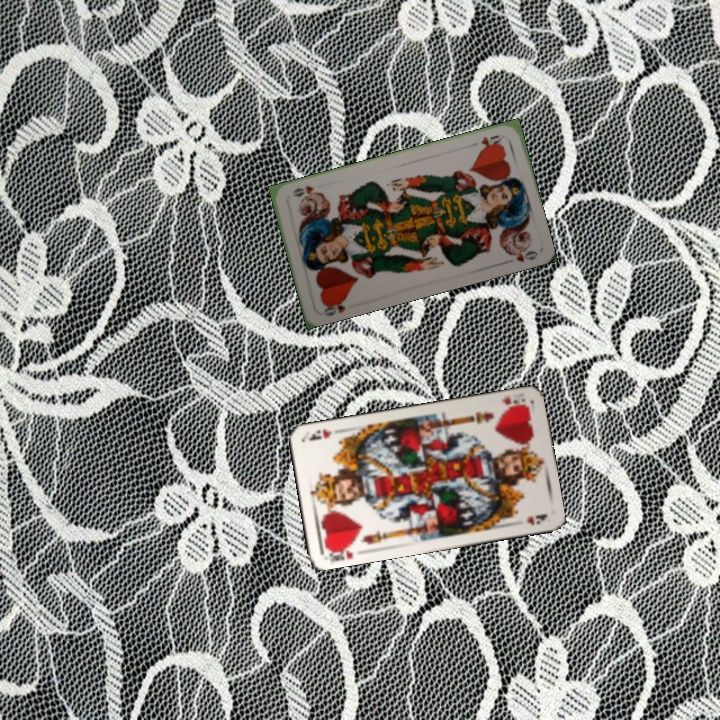HK: (322, 541, 357, 564), (497, 392, 530, 413)
HO: (319, 294, 349, 319), (477, 131, 504, 151)
